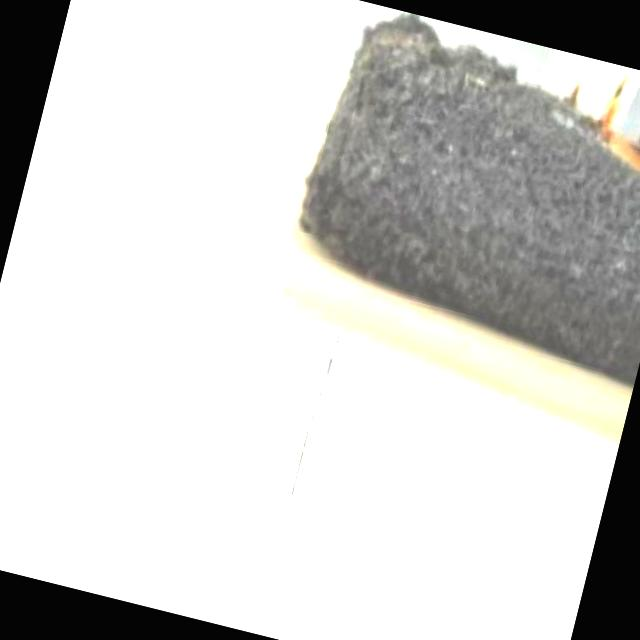crack: (282, 326, 342, 520)
